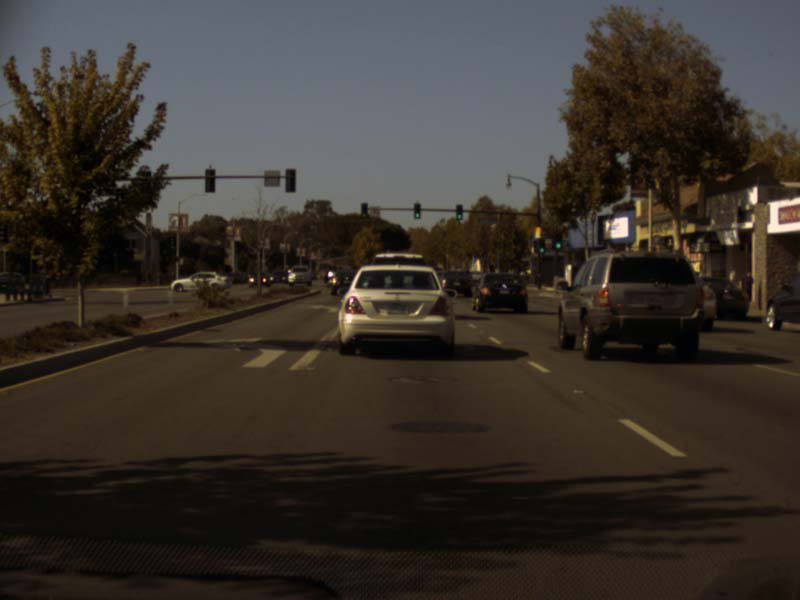Green: (553, 232, 562, 250), (536, 239, 545, 254), (360, 203, 368, 218), (413, 202, 420, 218), (455, 204, 462, 220)
